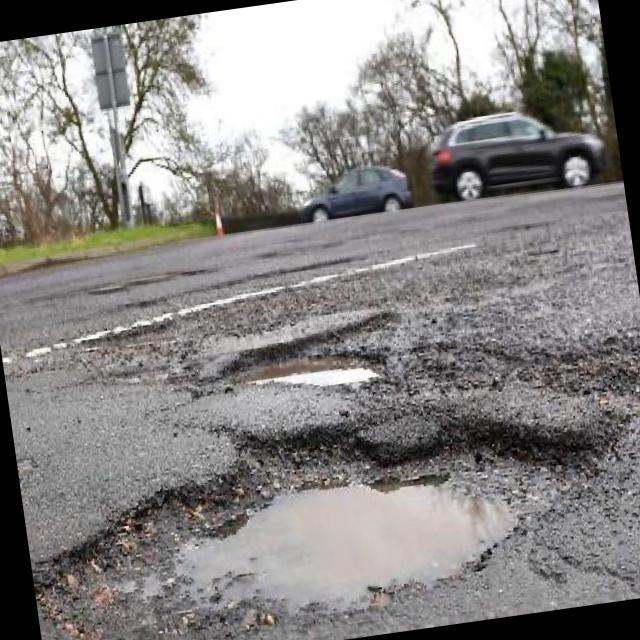Pothole: (34, 439, 549, 640), (29, 283, 303, 358), (240, 350, 386, 396), (256, 313, 379, 355)
